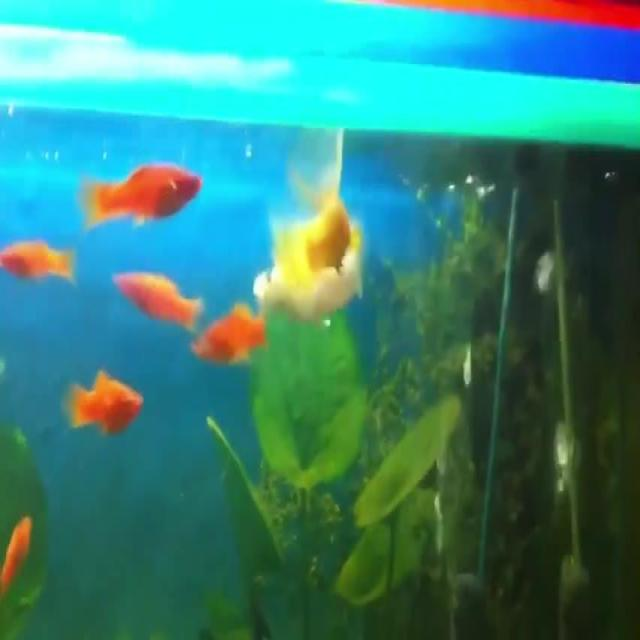PlatyFish: (74, 151, 208, 228), (109, 254, 204, 331), (64, 360, 154, 439), (186, 302, 278, 374), (0, 225, 79, 295)
